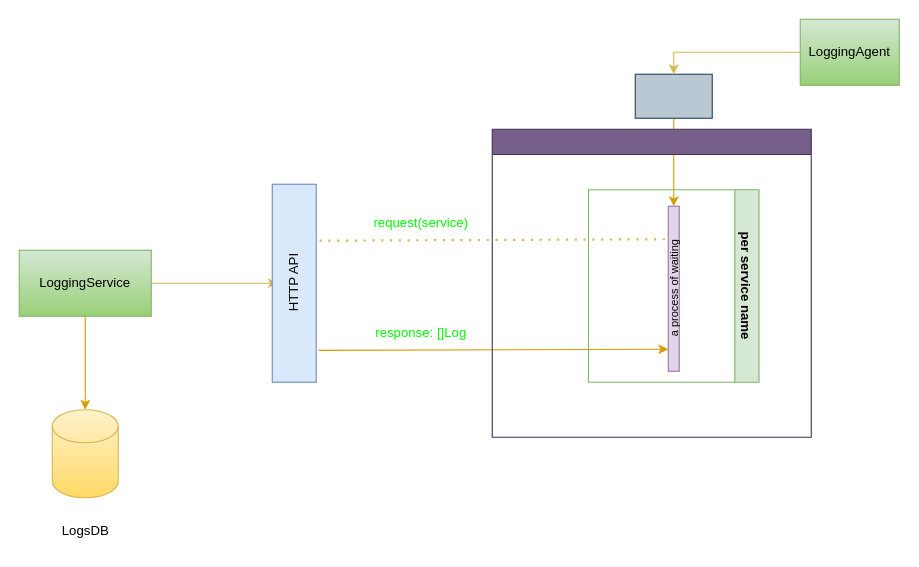
The diagram is 919 pixels wide and 567 high, and some of its shapes have lost their labels. The shapes that lost their labels are listed below. From the top down, each one's centre as x and y in pixels, then its label:
At (673,95): "Consumer".
At (651,282): "Scheduled process".
